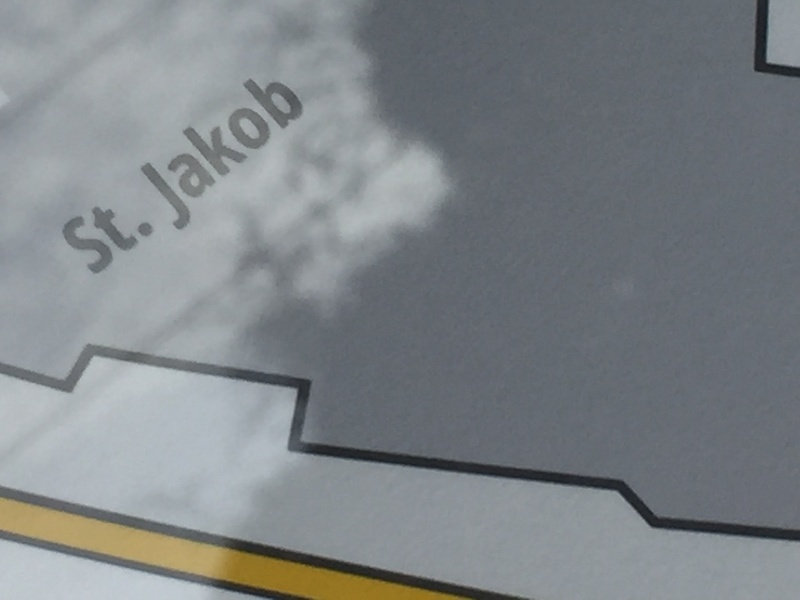text: (65, 63, 80, 293), (81, 63, 96, 293), (97, 63, 112, 293), (113, 63, 128, 293), (129, 63, 144, 293), (145, 63, 160, 293), (161, 63, 176, 293), (177, 63, 192, 293), (193, 63, 208, 293), (209, 63, 224, 293), (225, 63, 240, 293), (241, 63, 256, 293), (257, 63, 272, 293), (273, 63, 288, 293), (289, 63, 304, 293), (305, 63, 317, 293), (54, 63, 64, 293)
